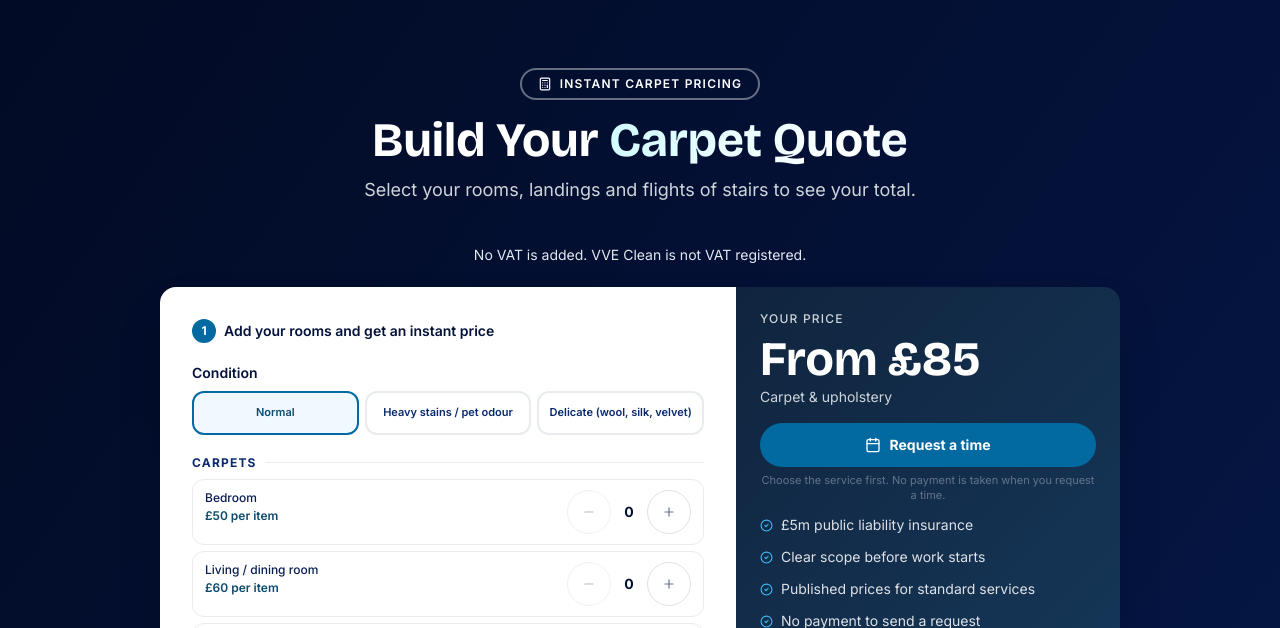
it: Carpet page quote — carpet plus upholstery › handles quantity changes on an upholstery item
This screenshot has width=1280, height=628.
Step 1. Click the button named "Increase Living / dining room quantity" → (669, 584), box x1=647 y1=562 x2=691 y2=606
(page scrolled)
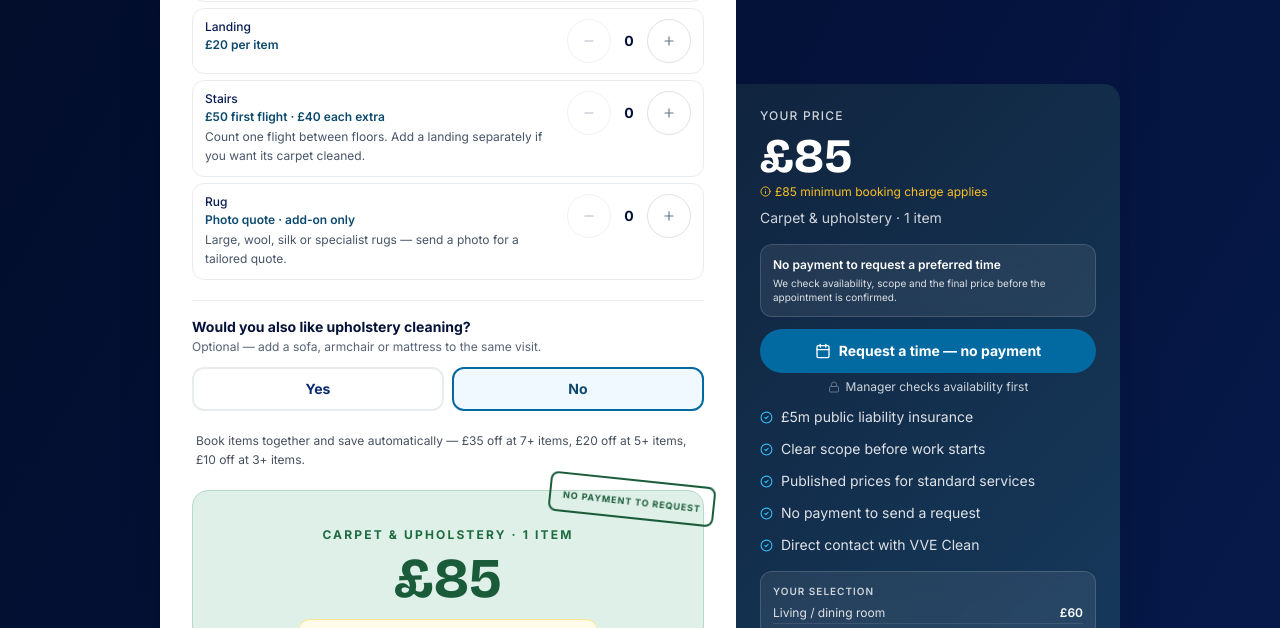
Step 2. Click the button "Yes" → (318, 389), box x1=192 y1=367 x2=444 y2=411
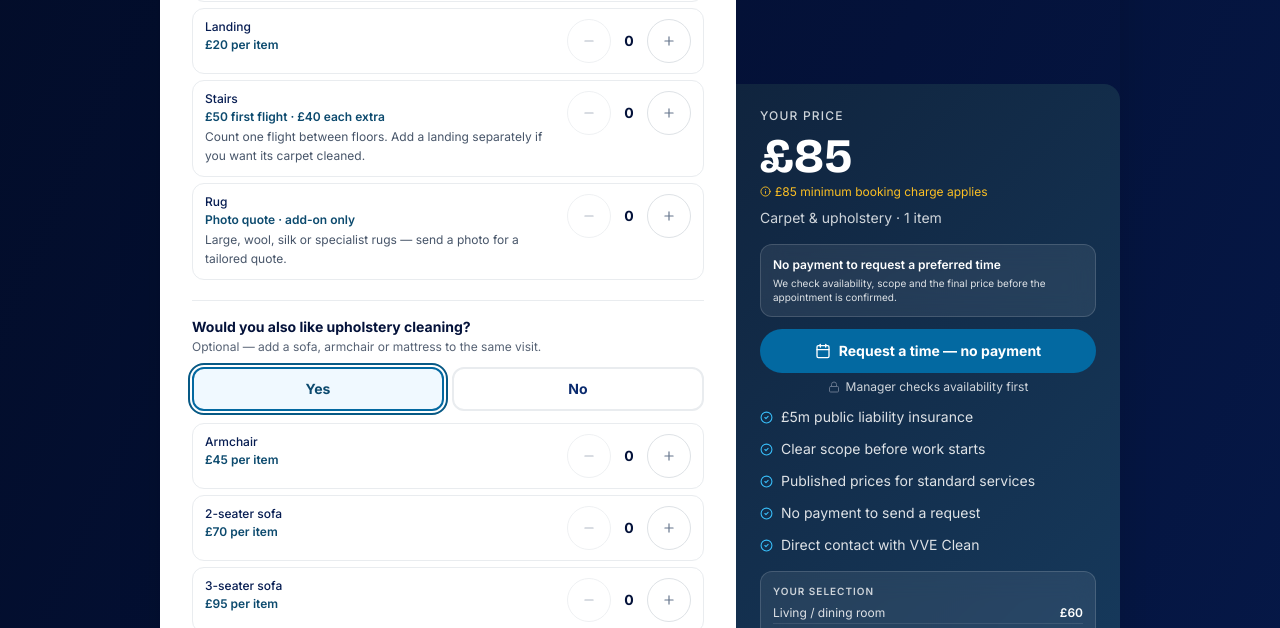
Step 3. Click the button named "Increase 2-seater sofa quantity" → (669, 528), box x1=647 y1=506 x2=691 y2=550
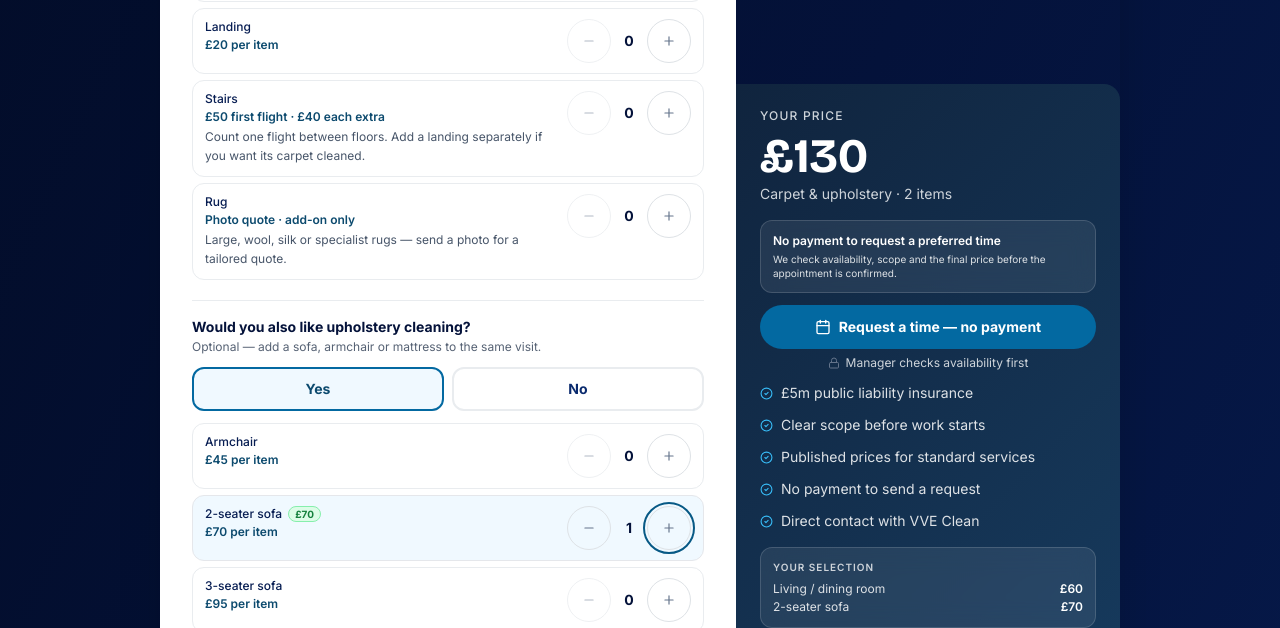
Step 4. Click the button named "Increase 2-seater sofa quantity" → (669, 528), box x1=647 y1=506 x2=691 y2=550
(page scrolled)
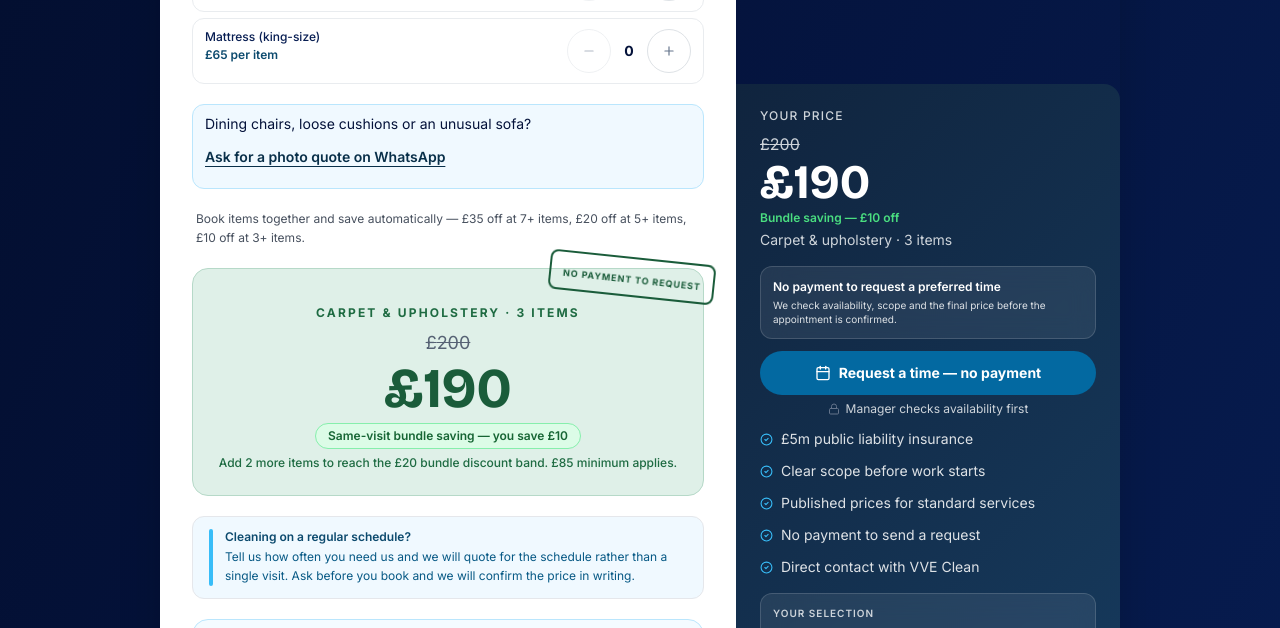
Now the text "£190" below "Ask for a photo quote on WhatsApp" is shown, box x1=384 y1=354 x2=512 y2=422
